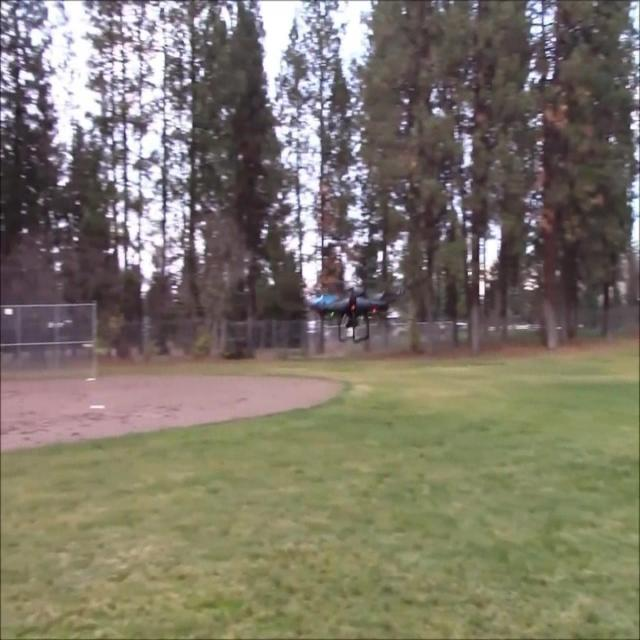UAV: (311, 285, 389, 343)
